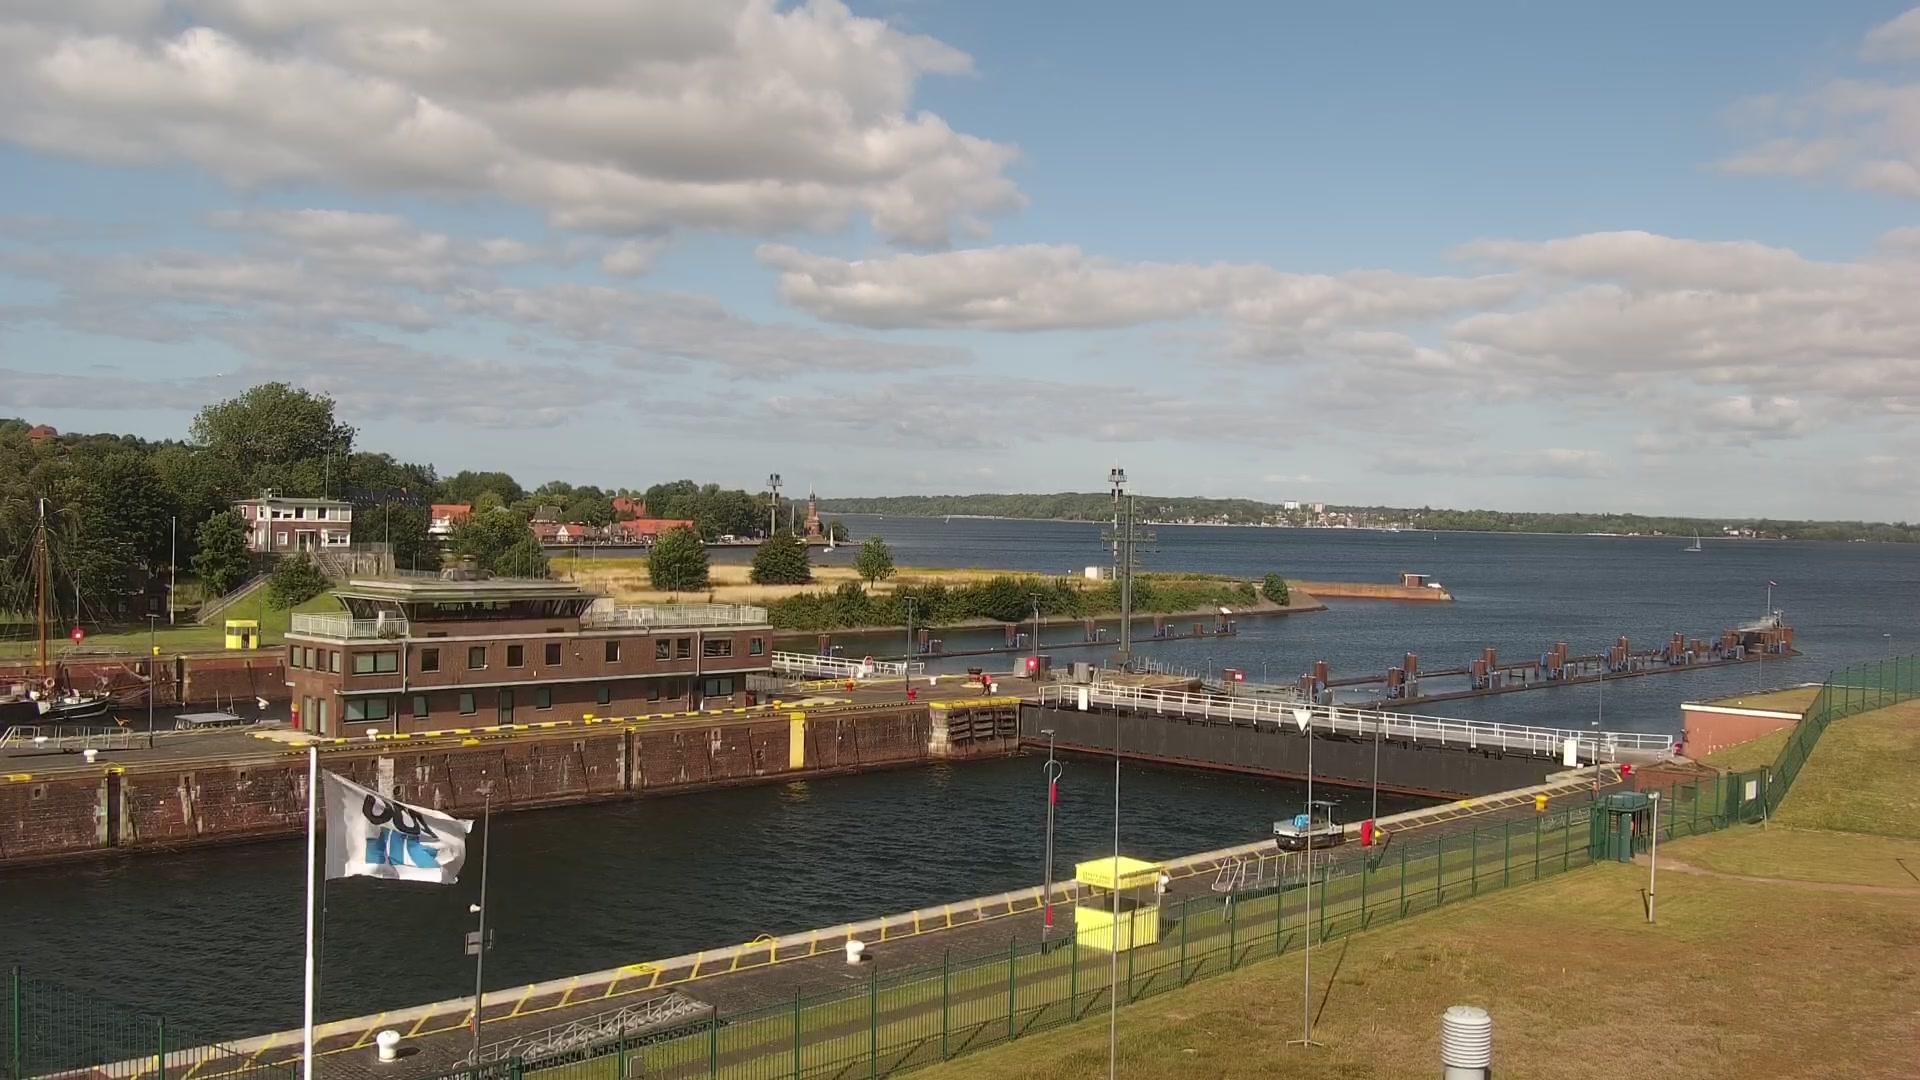human: (982, 672, 992, 695)
land: (1272, 797, 1345, 849)
sea: (1, 495, 181, 721), (1684, 528, 1702, 552), (822, 522, 836, 553), (943, 512, 951, 524)
